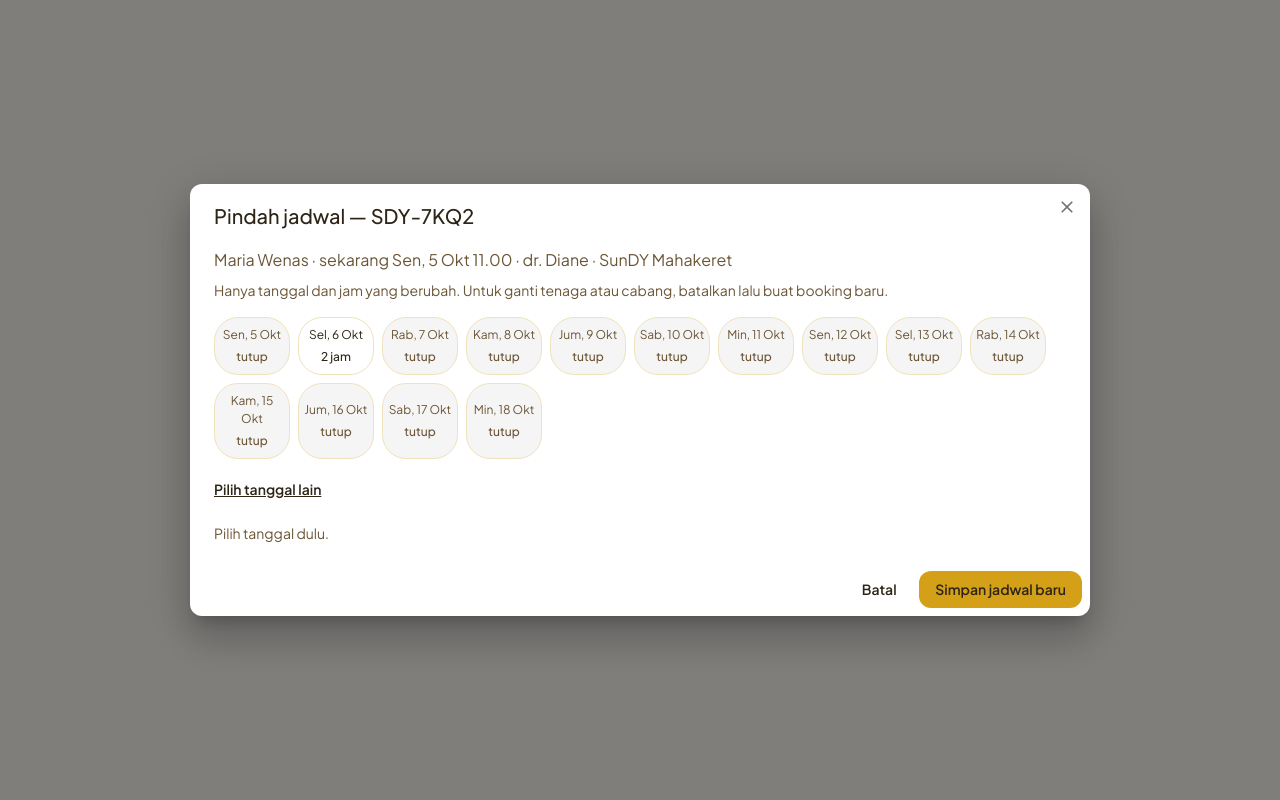
RescheduleDialog › menyimpan jam baru lalu menawarkan konfirmasi jadwal baru
Step 1. Click the button with aria-label "Selasa, 6 Oktober 2026 — 2 jam kosong" → {"x": 336, "y": 346}, box [298,316,374,374]
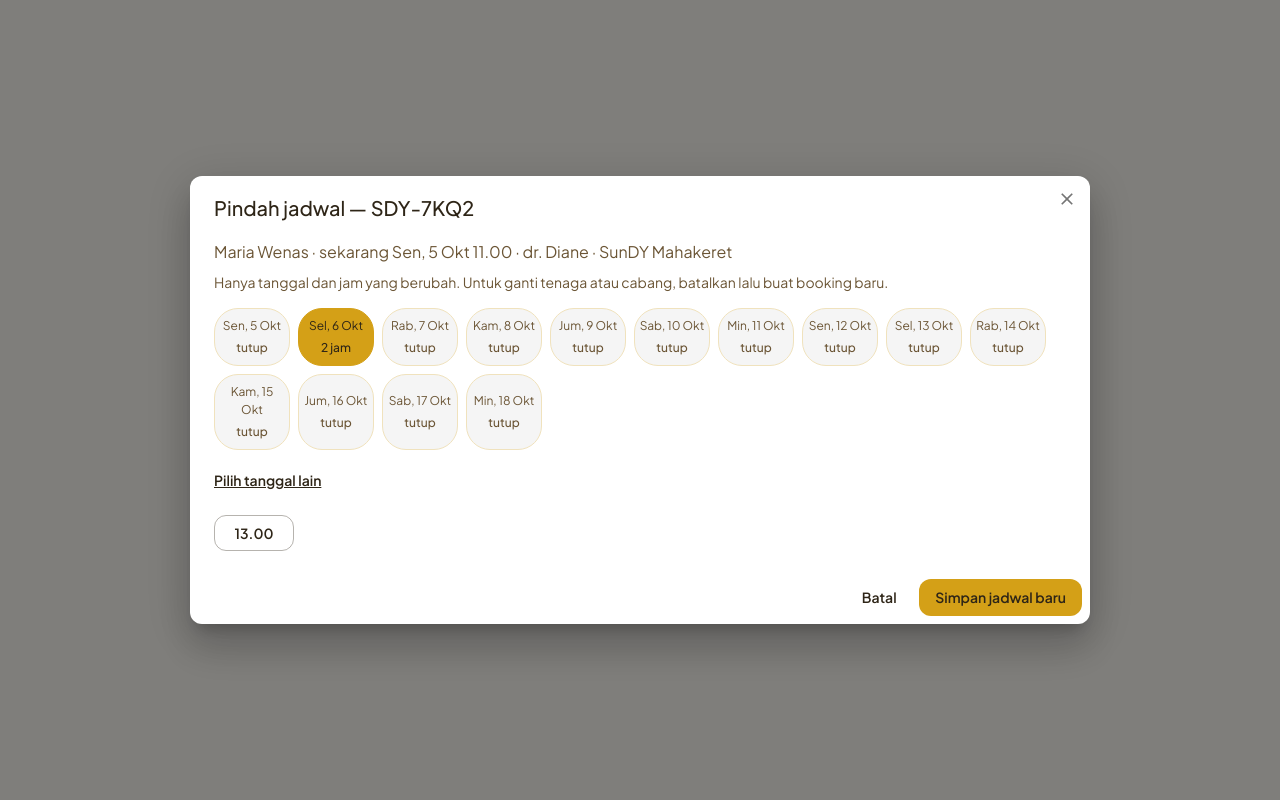
Step 2. Click the button "13.00" → {"x": 254, "y": 533}, box [214,515,294,551]
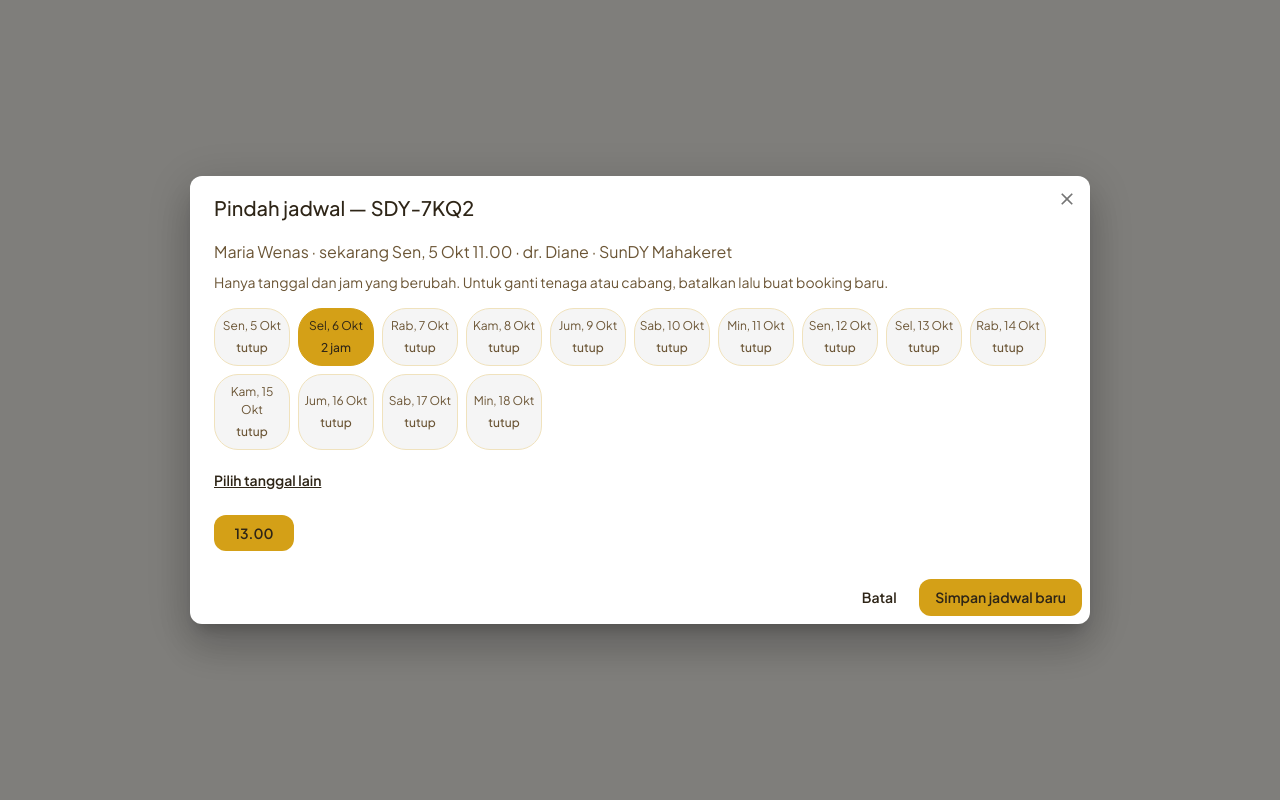
Step 3. Click the button "Simpan jadwal baru" → {"x": 1001, "y": 598}, box [919,579,1082,616]
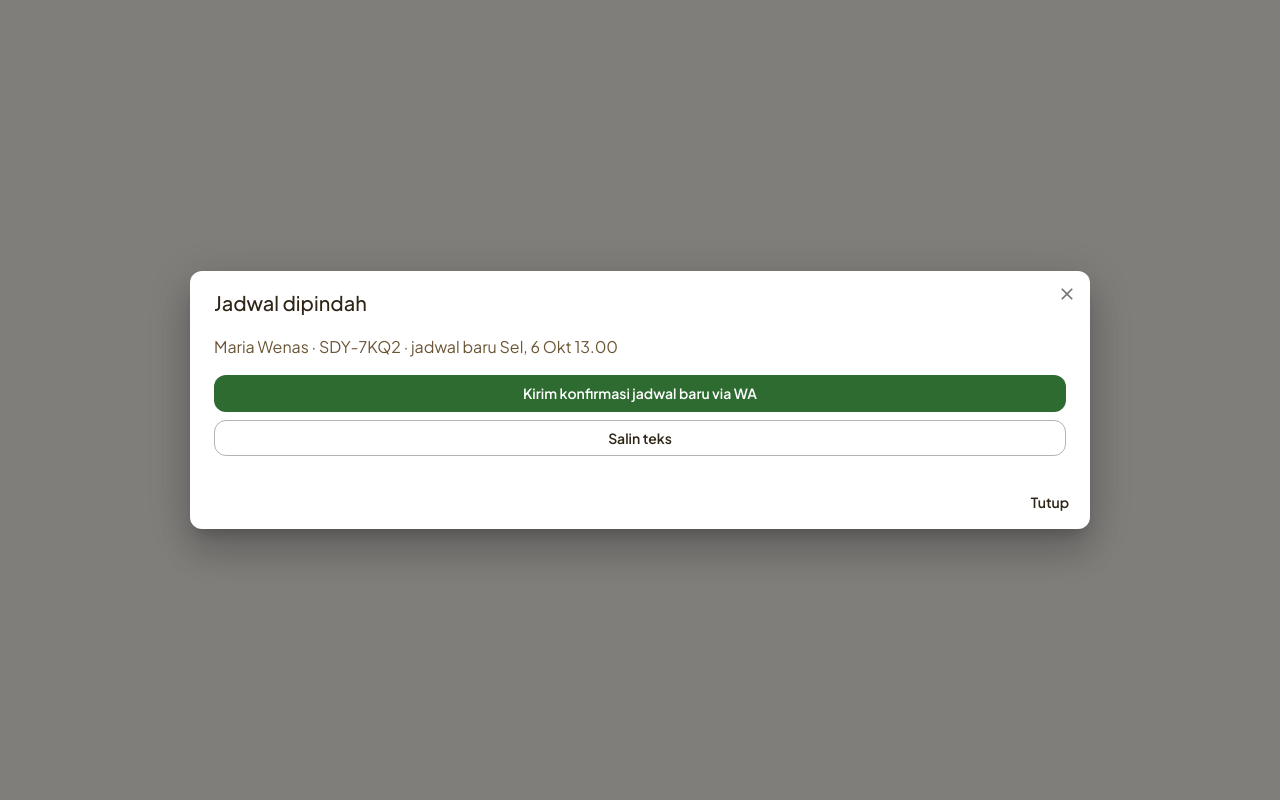
Result: the heading "Jadwal dipindah" is shown at [214,290,367,315]
Result: the text "Maria Wenas · SDY-7KQ2 · jadwal baru Sel, 6 Okt 13.00" is shown at [214,336,618,357]
